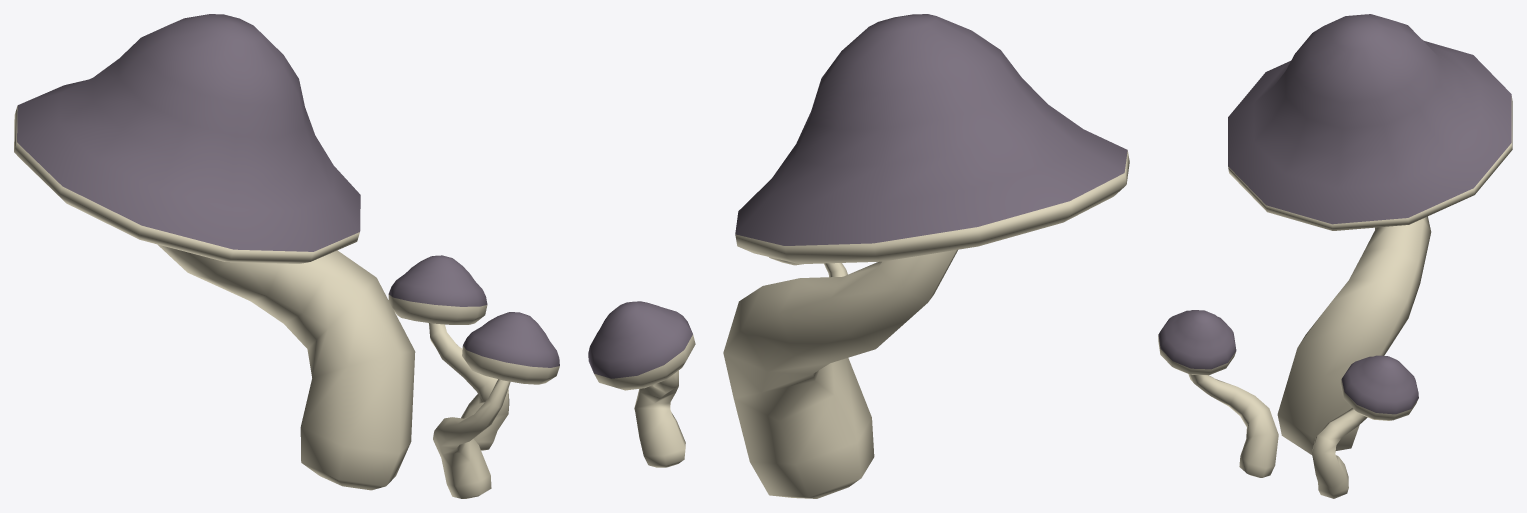
Rendered from P_mushroom_06_LD.fbx.
3 views of the same model, side by side, from view 1: azimuth 30°, elevation 25°; view 2: azimuth 150°, elevation 25°; view 3: azimuth 270°, elevation 25° (orthographic). The views are drawn at different scales.
Parts seen in each view (by area): view 1: P_mushroom_06; view 2: P_mushroom_06; view 3: P_mushroom_06.
Part boxes in pixels (x1,y1,x2,y2): P_mushroom_06: [14, 14, 559, 498]; P_mushroom_06: [588, 14, 1129, 498]; P_mushroom_06: [1158, 14, 1512, 498].
Bounding box in the file's own units: 56.37 × 56.77 × 48.01.
